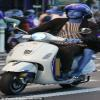motorcycles: (5, 33, 94, 93)
